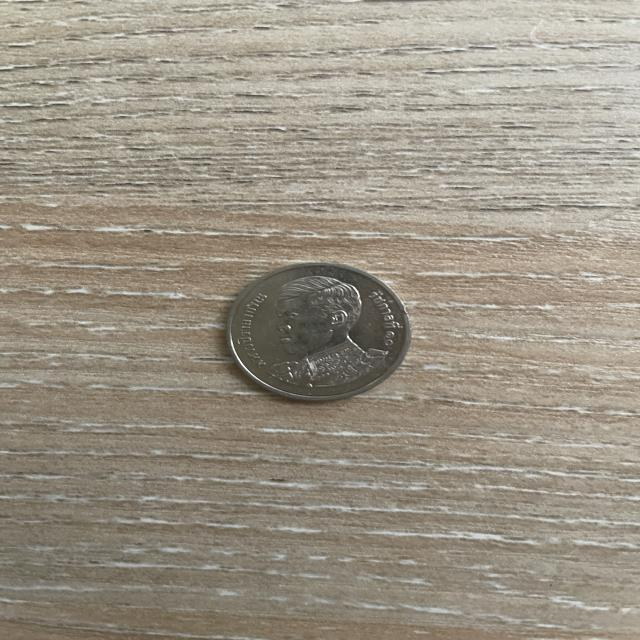1 Bath: (217, 256, 424, 412)
